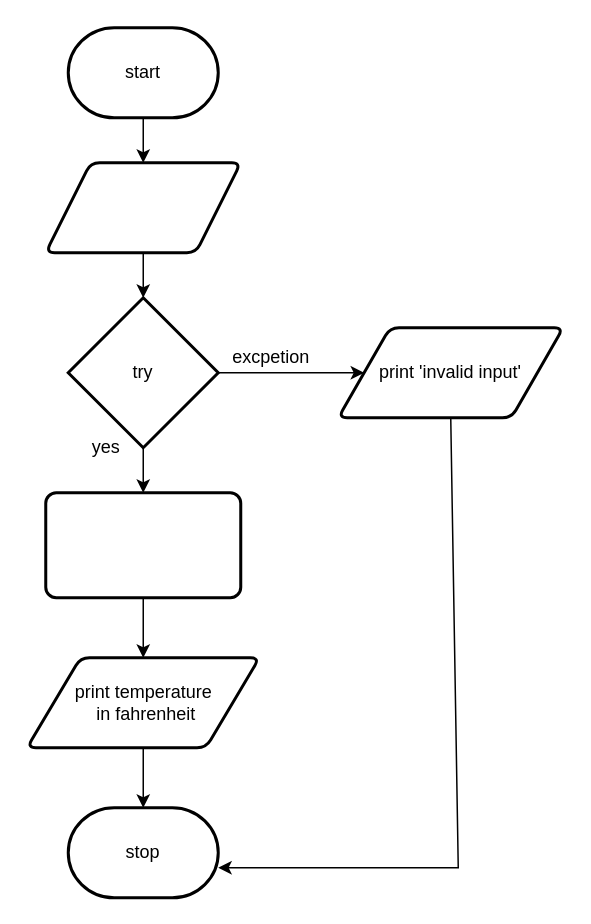
This 591x924 diagram has some shape labels left out. Here are the shapes that lost their labels. From the top down, the centre of each, then its label:
At point 143,207: "get celsius_ as_float".
At point 143,544: "fahrenheit = 9 / 5 * celsius_as_float + 32".
